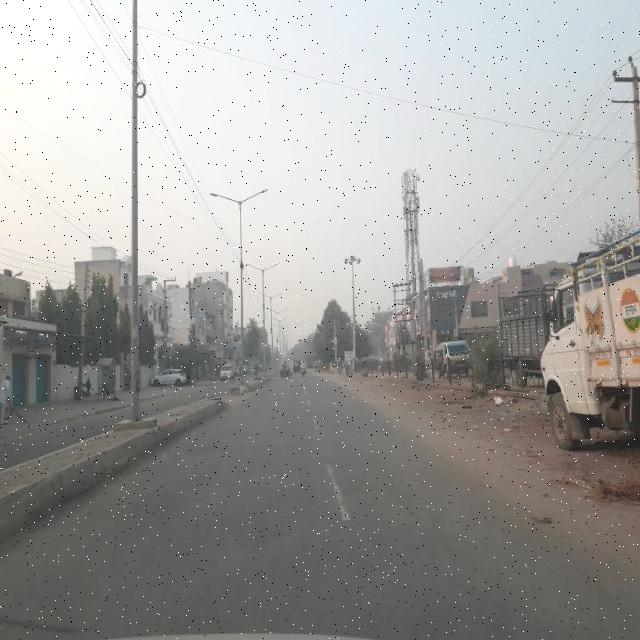D44: (317, 454, 361, 526), (307, 390, 328, 435)
